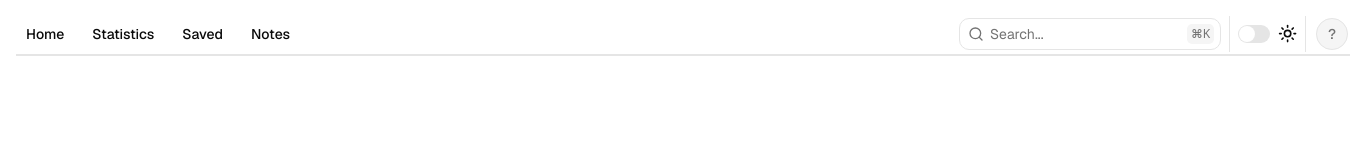
Test case: NavBar Integration Tests › should show "Log in" option when user is unauthenticated
Click the button "?" at (1332, 34), box [1314, 16, 1350, 52]
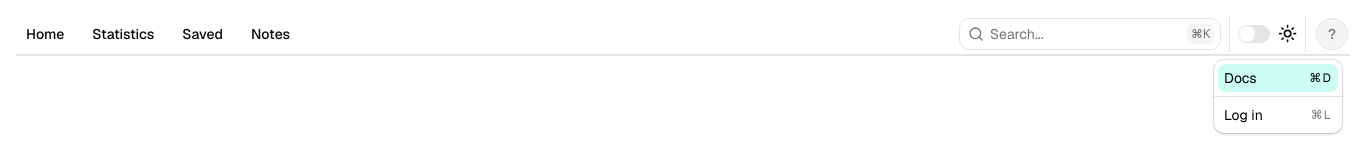
Check: the link "Log in ⌘L" is shown, box [1224, 105, 1332, 125]
